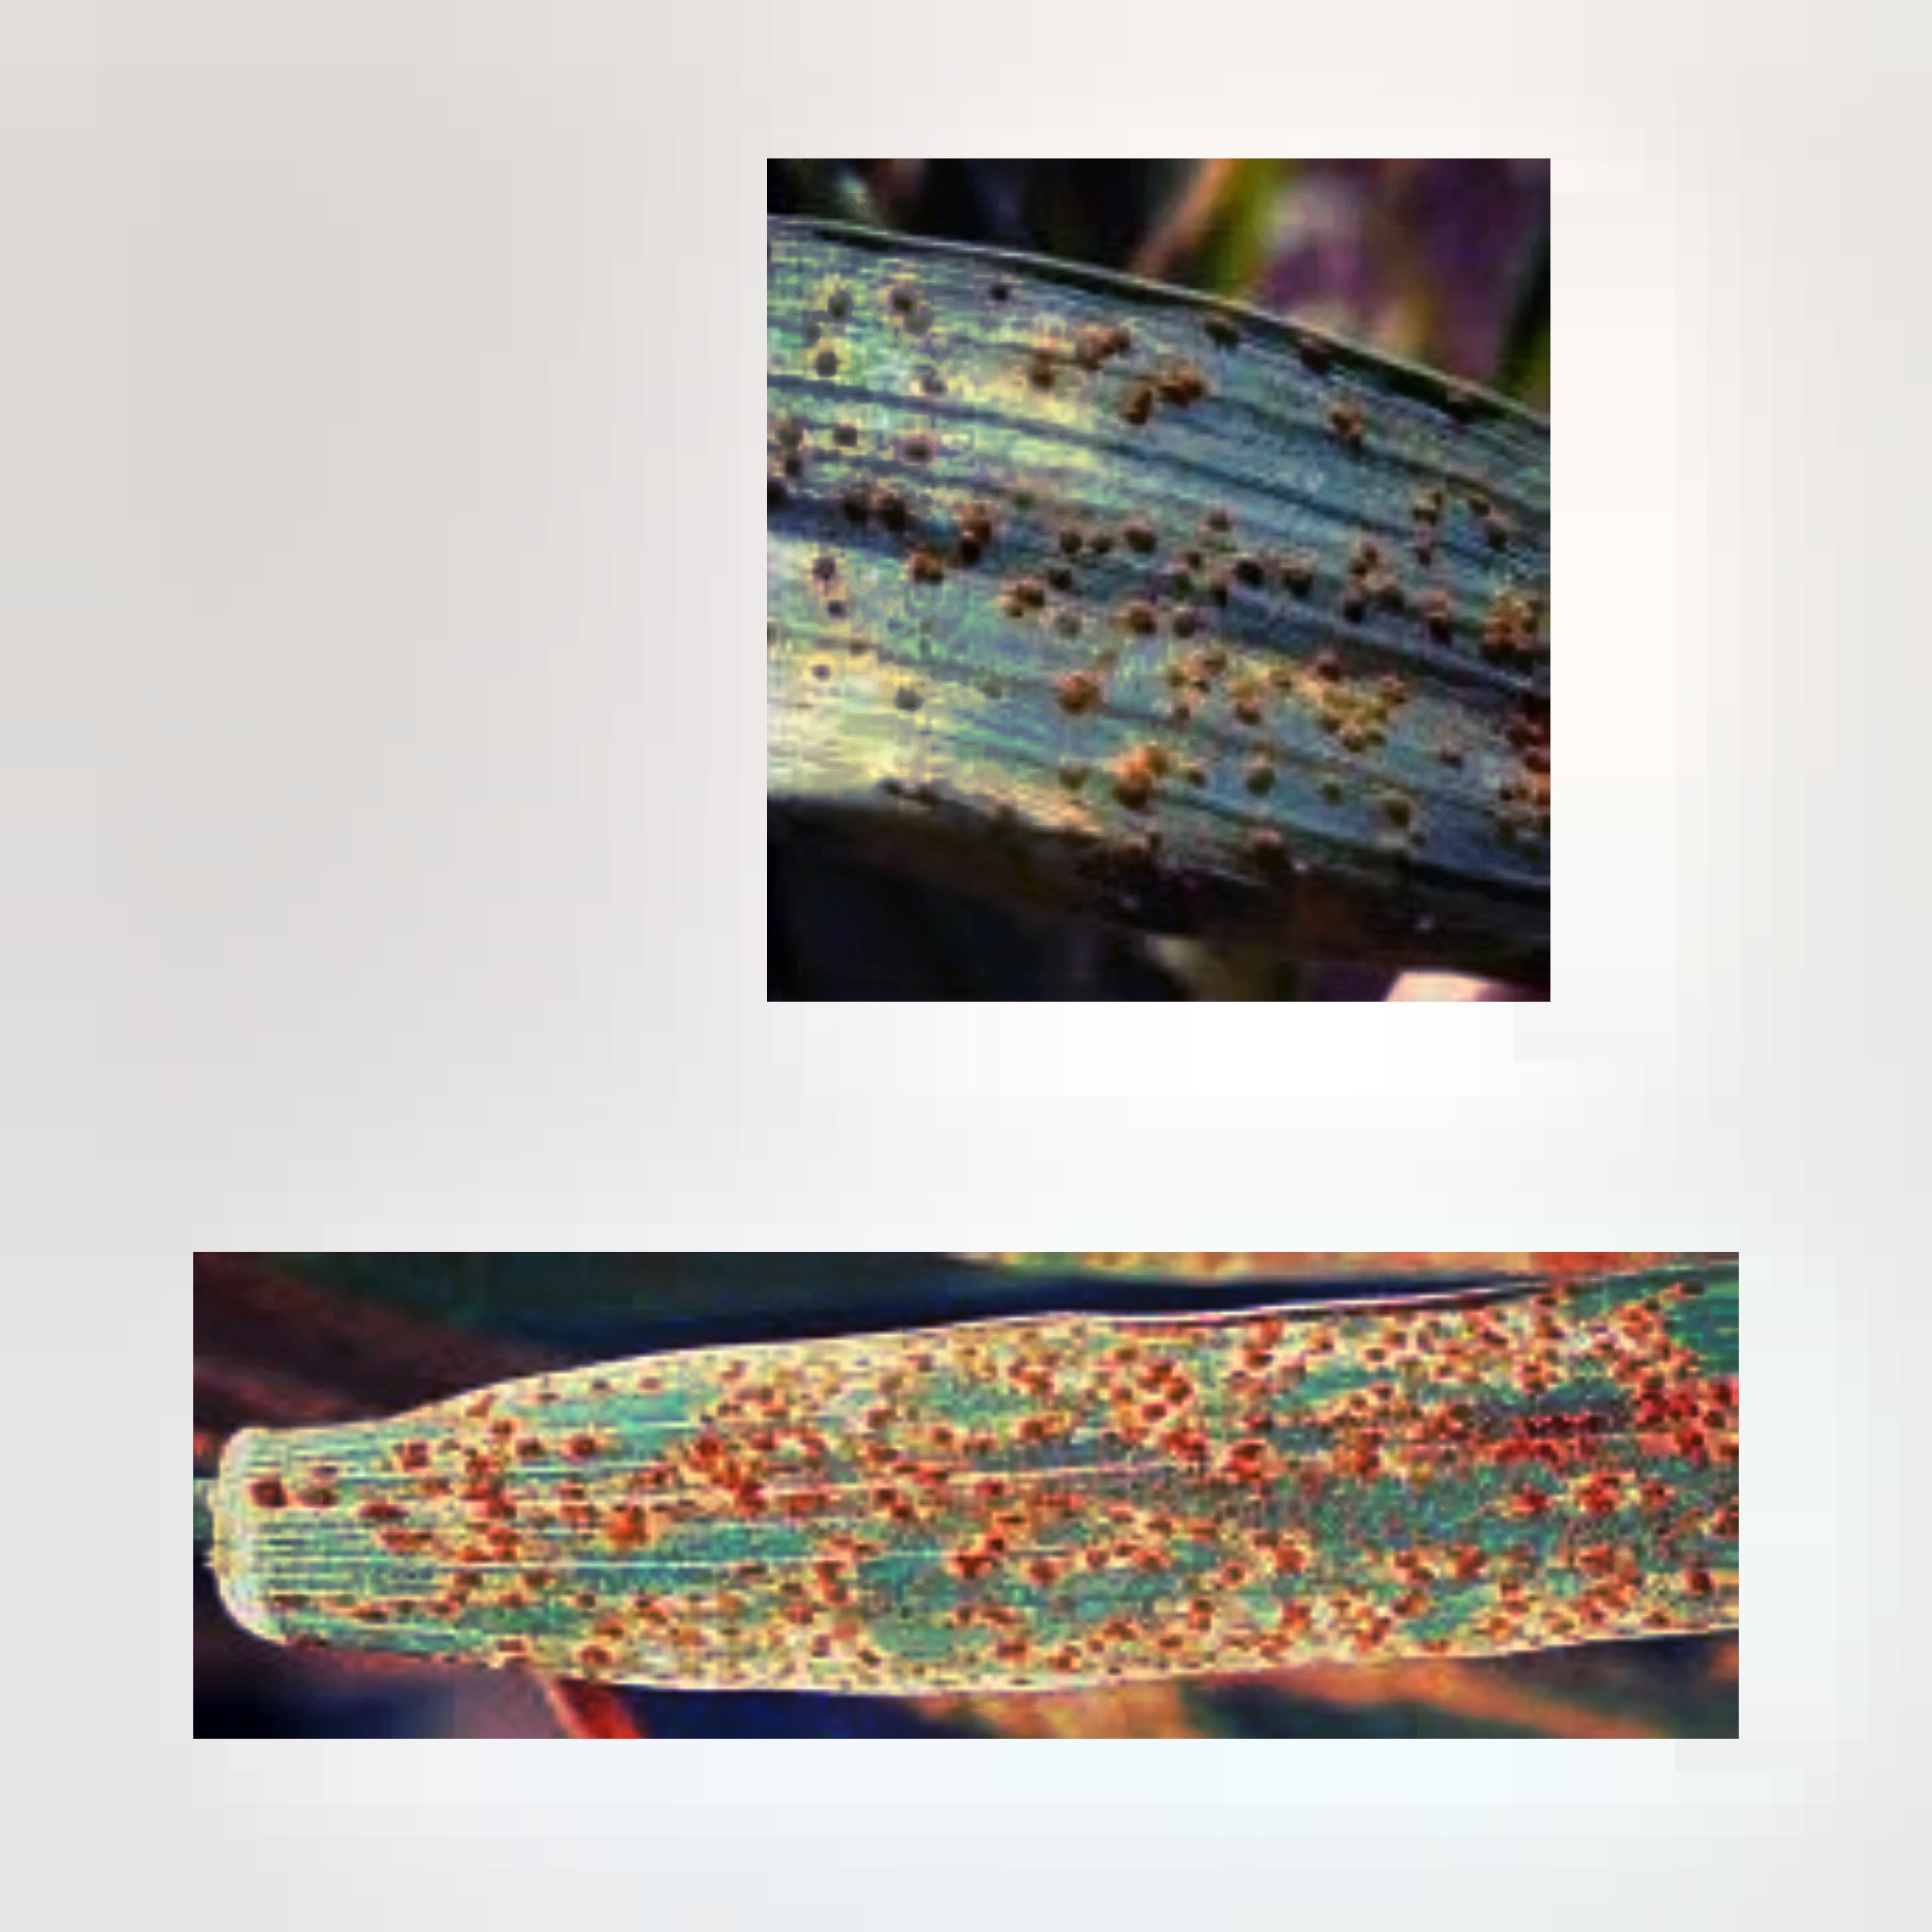Leaf Rust: (264, 1284, 1714, 1688), (793, 290, 1529, 890)
